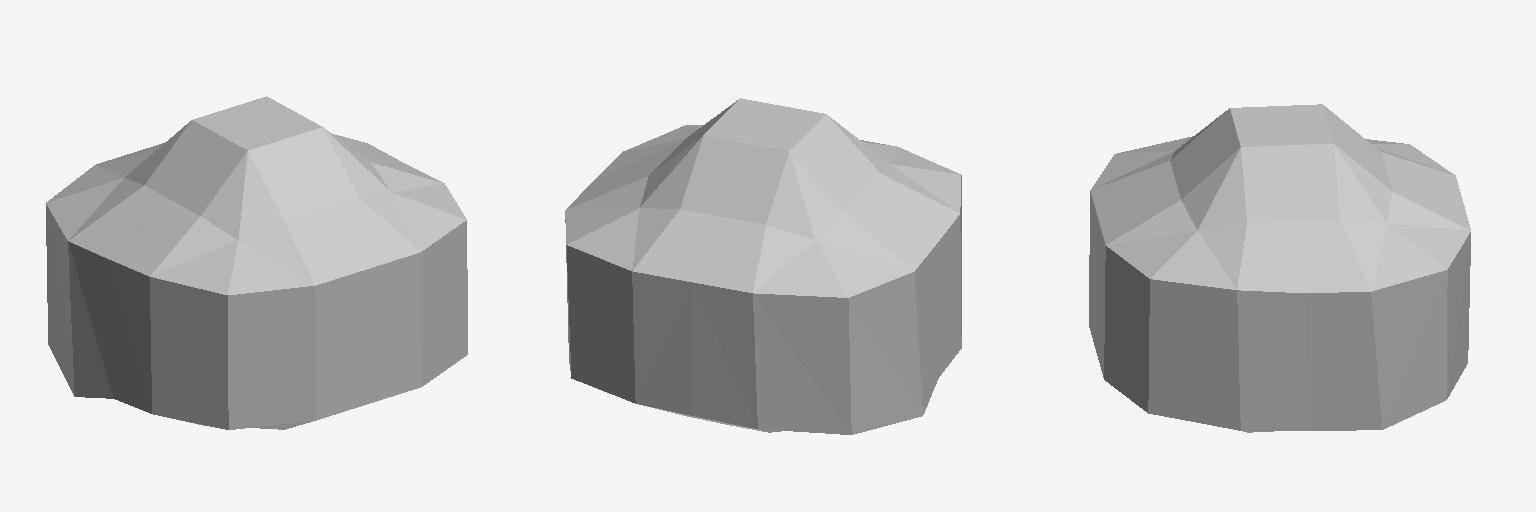
File: hat.obj
3 views of the same model, side by side, from view 1: azimuth 30°, elevation 25°; view 2: azimuth 150°, elevation 25°; view 3: azimuth 270°, elevation 25° (orthographic).
Visible parts, largest first — view 1: Hat; view 2: Hat; view 3: Hat.
Boxes of the visible parts, box(x1,y1,x2,y2) form: Hat: box(46, 96, 467, 429); Hat: box(565, 98, 961, 434); Hat: box(1089, 104, 1470, 432).
Bounding box in the file's own units: 1.15 × 0.8627 × 1.13.